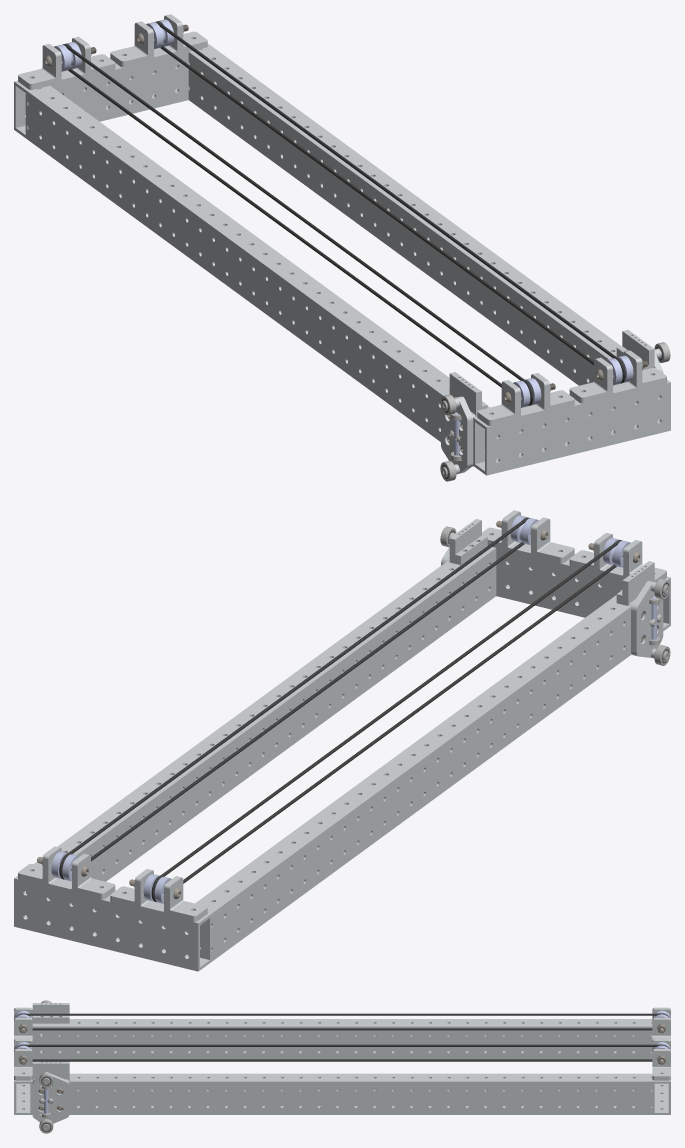
3 renders of one model, top to bottom at view 1: azimuth 30°, elevation 25°; view 2: azimuth 150°, elevation 25°; view 3: azimuth 270°, elevation 25°, orthographic. The views are drawn at different scales.
Visible parts, largest first — view 1: NAUO1, NAUO2, NAUO4, NAUO33 (×4), NAUO3, NAUO14, NAUO13, NAUO19, NAUO9, NAUO12; view 2: NAUO1, NAUO2, NAUO3, NAUO33 (×4), NAUO4, NAUO14, NAUO13, NAUO19, NAUO12, NAUO9; view 3: NAUO2, NAUO1, NAUO14, NAUO13, NAUO33 (×4), NAUO19, NAUO9, NAUO3, NAUO4, NAUO12.
Boxes of the visible parts, x1=… form: NAUO1: x1=27, y1=85, x2=489, y2=465; NAUO2: x1=188, y1=46, x2=621, y2=385; NAUO4: x1=473, y1=379, x2=670, y2=475; NAUO33 (×4): x1=18, y1=14, x2=666, y2=426; NAUO3: x1=14, y1=43, x2=211, y2=138; NAUO14: x1=155, y1=21, x2=625, y2=383; NAUO13: x1=63, y1=44, x2=533, y2=405; NAUO19: x1=441, y1=396, x2=475, y2=474; NAUO9: x1=449, y1=372, x2=487, y2=416; NAUO12: x1=616, y1=330, x2=654, y2=370; NAUO1: x1=195, y1=595, x2=631, y2=961; NAUO2: x1=34, y1=546, x2=496, y2=881; NAUO3: x1=14, y1=876, x2=211, y2=971; NAUO33 (×4): x1=18, y1=510, x2=666, y2=922; NAUO4: x1=496, y1=548, x2=670, y2=630; NAUO14: x1=59, y1=517, x2=529, y2=879; NAUO13: x1=151, y1=540, x2=621, y2=902; NAUO19: x1=629, y1=580, x2=663, y2=658; NAUO12: x1=449, y1=519, x2=487, y2=564; NAUO9: x1=616, y1=561, x2=654, y2=605; NAUO2: x1=32, y1=1073, x2=652, y2=1114; NAUO1: x1=32, y1=1019, x2=652, y2=1059; NAUO14: x1=15, y1=1044, x2=669, y2=1061; NAUO13: x1=15, y1=1013, x2=669, y2=1030; NAUO33 (×4): x1=14, y1=1007, x2=670, y2=1080; NAUO19: x1=32, y1=1072, x2=69, y2=1123; NAUO9: x1=32, y1=1003, x2=69, y2=1023; NAUO3: x1=652, y1=1080, x2=670, y2=1114; NAUO4: x1=14, y1=1080, x2=32, y2=1114; NAUO12: x1=32, y1=1061, x2=69, y2=1080.
Bounding box in the file's own units: 0.2461 × 0.1016 × 0.9017.
